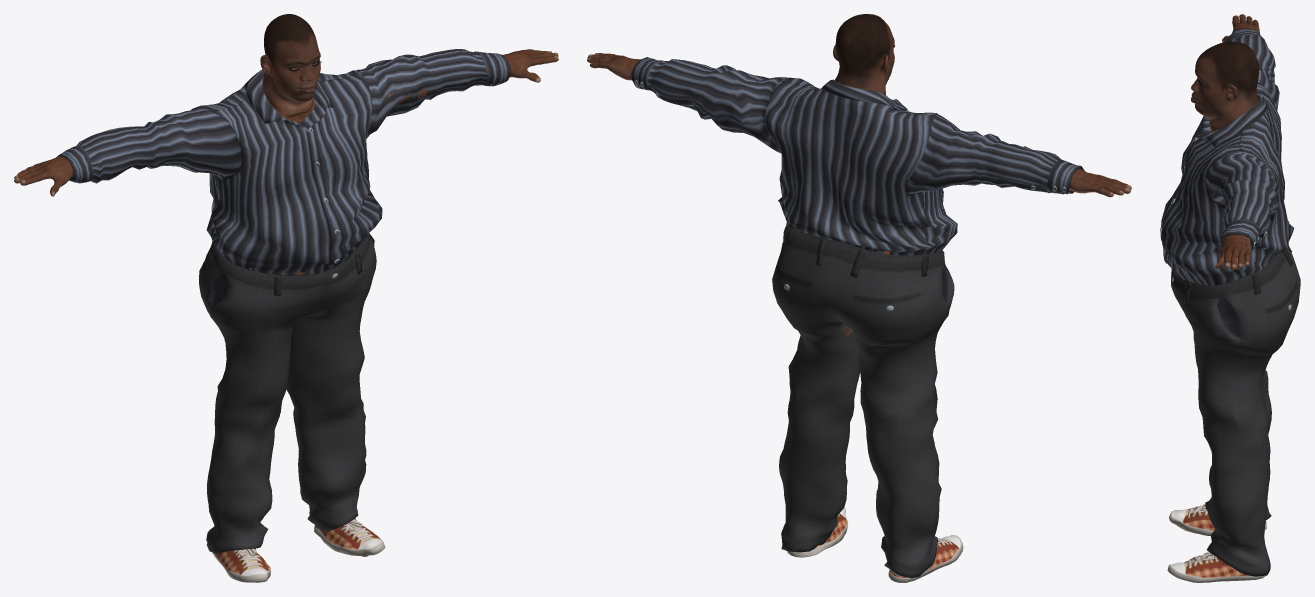
File: fat male.obj
The picture shows the model from 3 angles, left to right: view 1: azimuth 30°, elevation 25°; view 2: azimuth 150°, elevation 25°; view 3: azimuth 270°, elevation 25°; orthographic projection. The views are drawn at different scales.
Visible parts, largest first — view 1: Tops, Bottoms, Body, Shoes; view 2: Bottoms, Tops, Body, Shoes; view 3: Bottoms, Tops, Body, Shoes.
Part boxes in pixels (x1,y1,x2,y2): Tops: (56,49,510,275); Bottoms: (199,233,376,553); Body: (14,14,558,582); Shoes: (212,518,385,582); Bottoms: (772,222,954,578); Tops: (631,57,1084,255); Body: (587,14,1131,336); Shoes: (787,508,963,582); Bottoms: (1171,245,1300,576); Tops: (1160,28,1294,285); Body: (1191,14,1270,269); Shoes: (1167,504,1266,582).
Size of the model in its own units: 199 by 188 by 46.93.
1 material, 1 textured.
